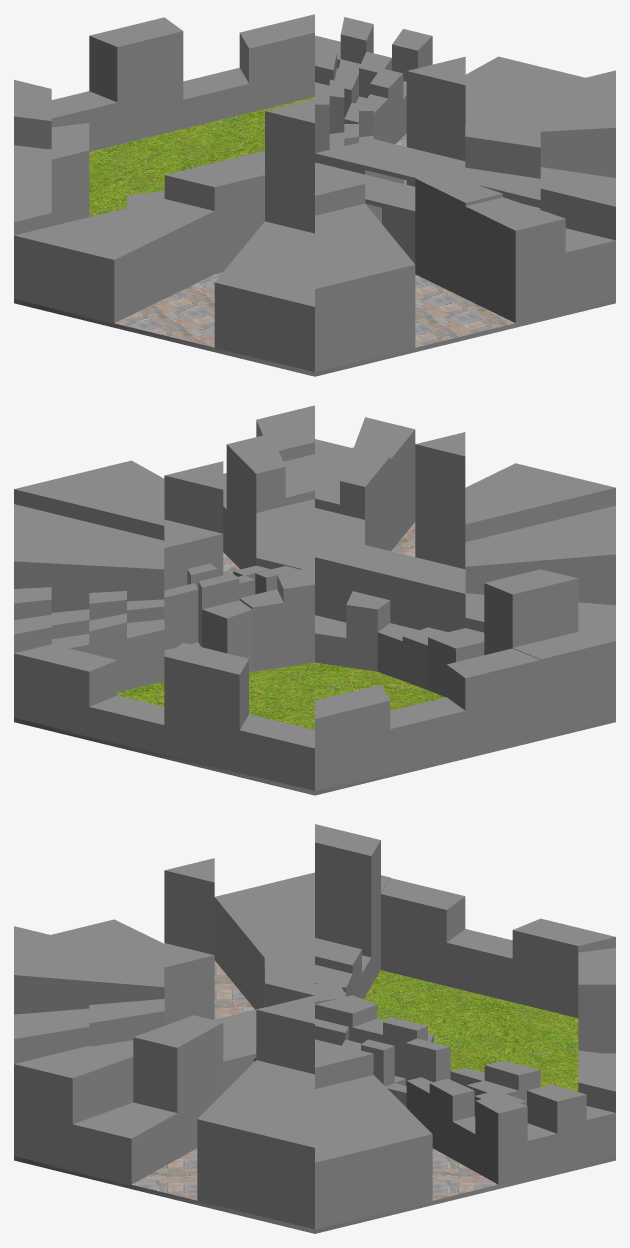
3 views of the same model, one above another, from view 1: azimuth 30°, elevation 25°; view 2: azimuth 150°, elevation 25°; view 3: azimuth 270°, elevation 25° (orthographic).
Visible parts, largest first — view 1: Cylinder006; view 2: Cylinder006; view 3: Cylinder006.
Part boxes in pixels (bbox=[...]): Cylinder006: bbox=[14, 14, 615, 376]; Cylinder006: bbox=[14, 405, 615, 795]; Cylinder006: bbox=[14, 824, 615, 1233].
Bounding box in the file's own units: 140 × 40 × 121.
5 materials, 2 textured.
